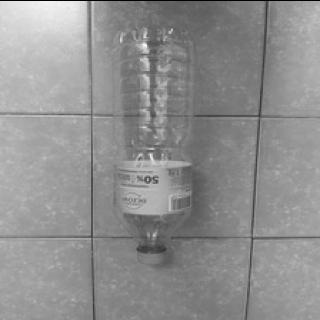plastic_bottles: (112, 25, 194, 265)
